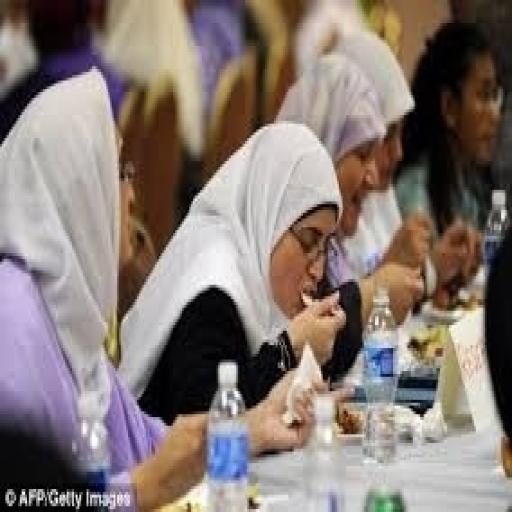eating: (2, 63, 346, 509)
